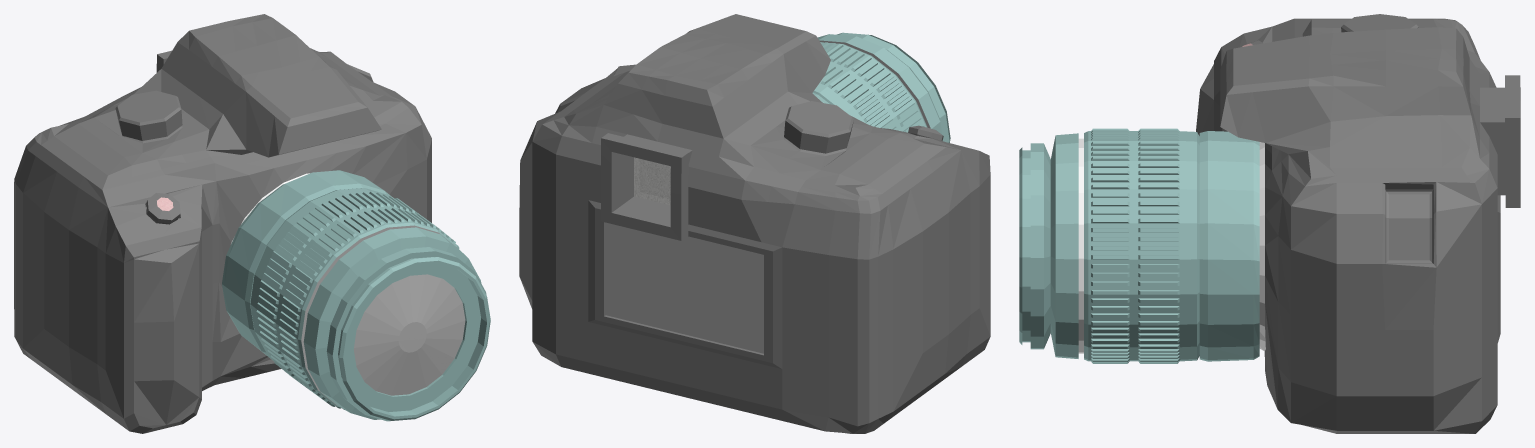
Rendered from camera.glb.
The picture shows the model from 3 angles, left to right: view 1: azimuth 30°, elevation 25°; view 2: azimuth 150°, elevation 25°; view 3: azimuth 270°, elevation 25°; orthographic projection. The views are drawn at different scales.
Size of the model in its own units: 9.96 by 7.56 by 10.45.
Materials: 6 (2 with a texture image).
